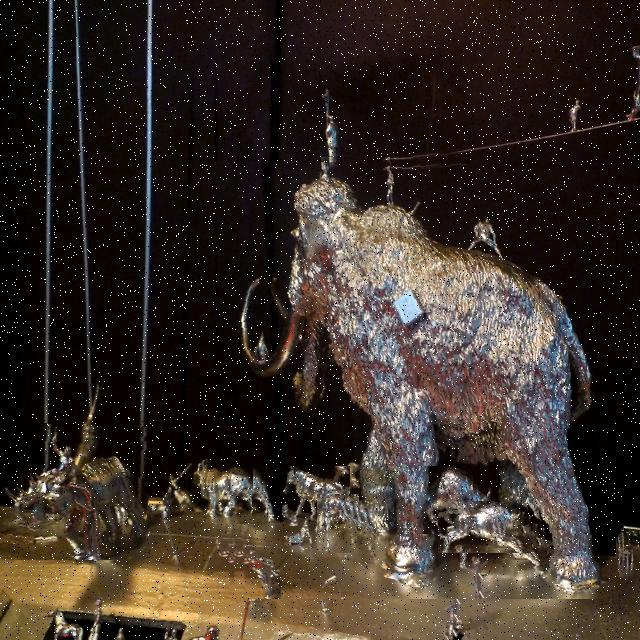elephant: (218, 151, 616, 599), (0, 423, 150, 560), (438, 499, 534, 553), (280, 466, 350, 527), (414, 466, 473, 534), (200, 457, 253, 524), (317, 494, 359, 553)
